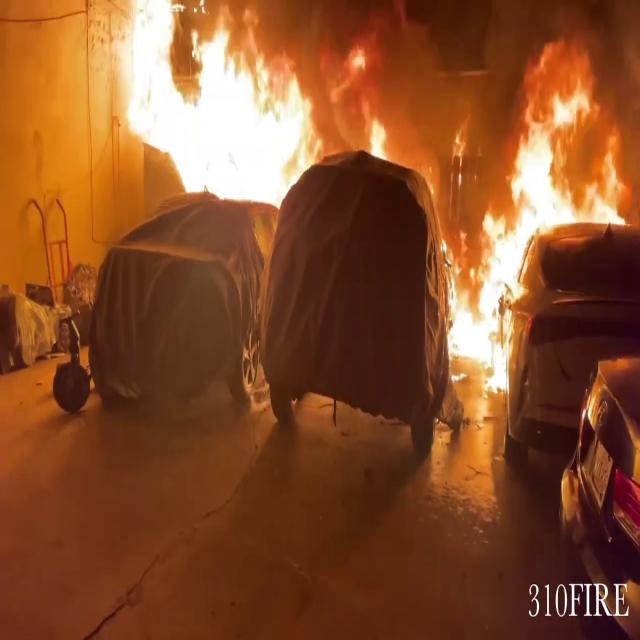Fire: (445, 64, 631, 395), (115, 1, 325, 211)
